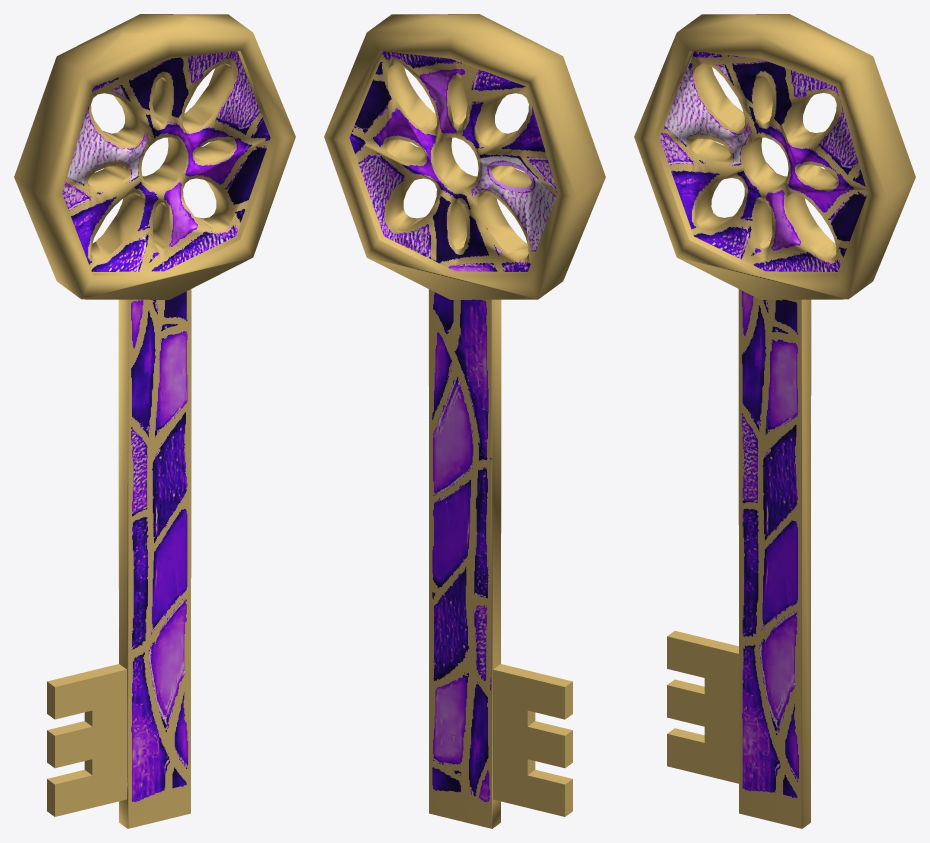
The model's file is key02Compressed.glb.
3 views of the same model, side by side, from view 1: azimuth 30°, elevation 25°; view 2: azimuth 150°, elevation 25°; view 3: azimuth 330°, elevation 25° (orthographic).
Parts seen in each view (by area): view 1: key04; view 2: key04; view 3: key04.
Part boxes in pixels (bbox=[...]): key04: bbox=[14, 14, 295, 828]; key04: bbox=[324, 14, 605, 828]; key04: bbox=[634, 14, 915, 828].
Bounding box in the file's own units: 0.25 × 0.75 × 0.05.
Materials: 2 (1 with a texture image).
